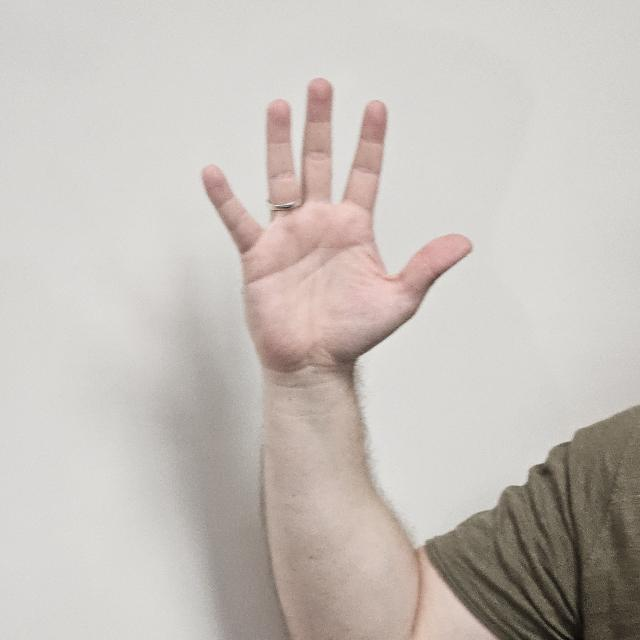X: (199, 78, 471, 406)
